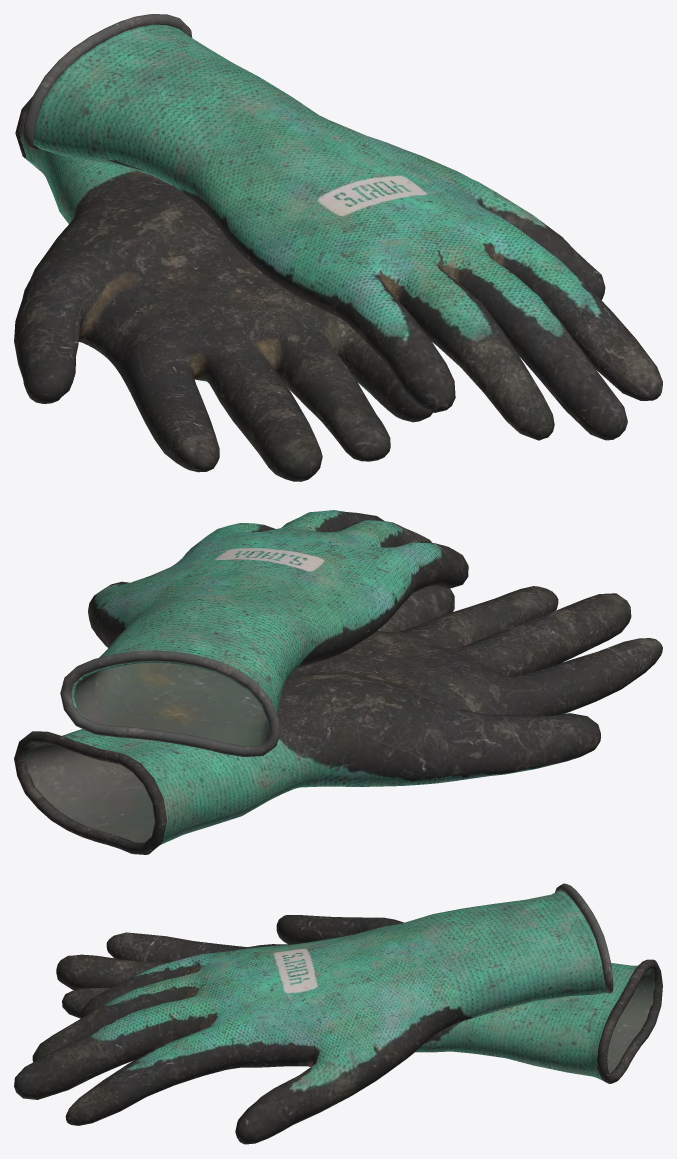
Rendered from gloves.glb.
3 views of the same model, one above another, from view 1: azimuth 30°, elevation 25°; view 2: azimuth 150°, elevation 25°; view 3: azimuth 270°, elevation 25° (orthographic). The views are drawn at different scales.
Visible parts, largest first — view 1: garden_gloves_01; view 2: garden_gloves_01; view 3: garden_gloves_01.
Boxes of the visible parts, x1,y1,x2,y2 form: garden_gloves_01: (14,14,662,481); garden_gloves_01: (14,510,662,854); garden_gloves_01: (14,883,662,1144).
Size of the model in its own units: 0.2266 by 0.076 by 0.299.
Materials: 1 (1 with a texture image).
